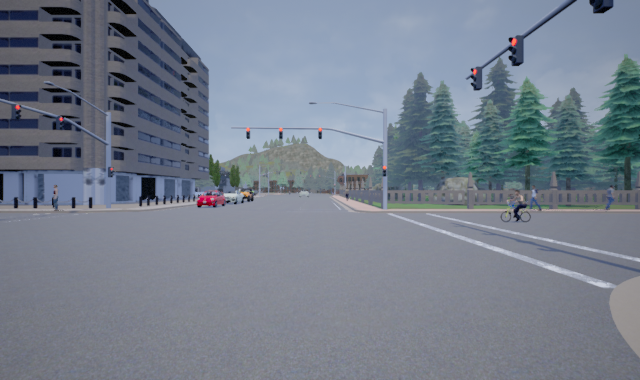bike: (500, 191, 531, 223)
pedestrian: (526, 183, 542, 210), (603, 183, 618, 211), (49, 183, 60, 212), (504, 191, 519, 210)
vehicle: (197, 190, 226, 207), (216, 189, 245, 205), (233, 186, 254, 202)
